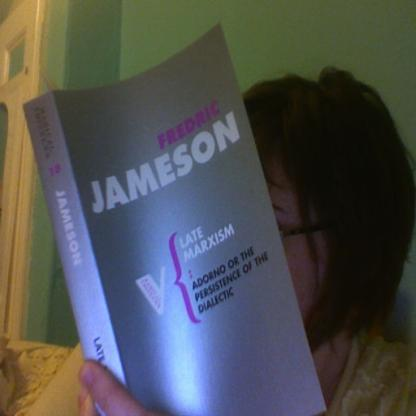book: (29, 28, 330, 416)
